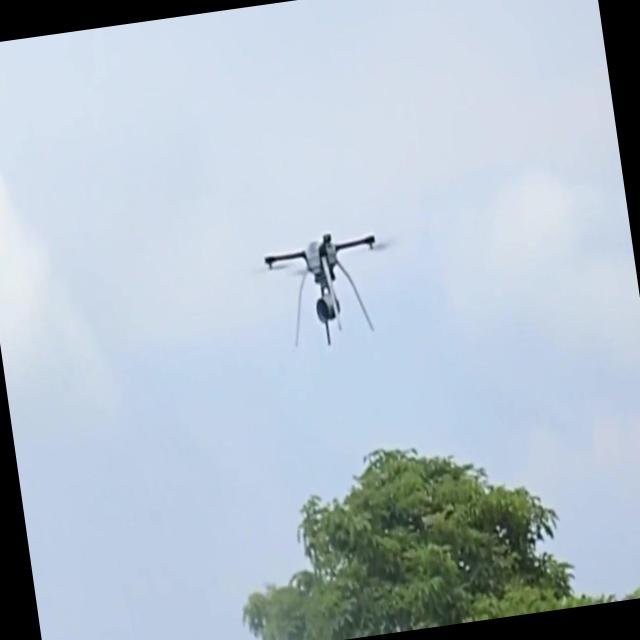drone: (262, 221, 398, 352)
